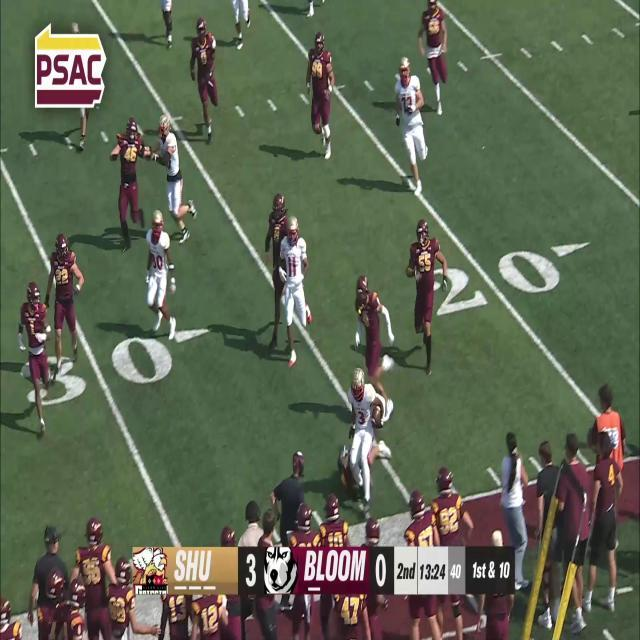football: (370, 402, 383, 428)
